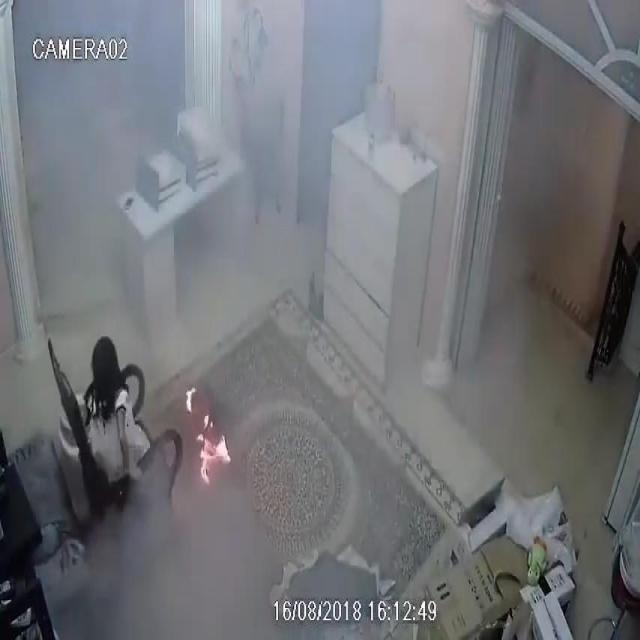fire: (197, 416, 230, 484), (186, 388, 196, 413)
